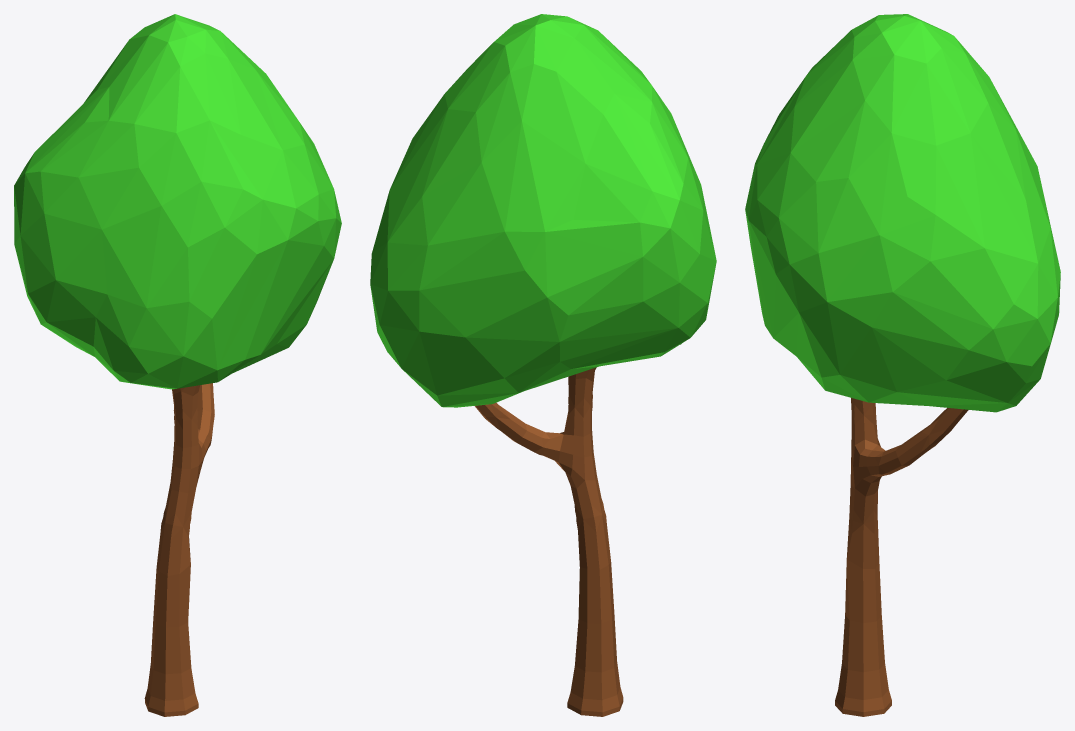
File: Tree.fbx
3 renders of one model, left to right at view 1: azimuth 30°, elevation 25°; view 2: azimuth 150°, elevation 25°; view 3: azimuth 270°, elevation 25°, orthographic. The views are drawn at different scales.
Parts seen in each view (by area): view 1: Icosphere.026, Tree.001; view 2: Icosphere.026, Tree.001; view 3: Icosphere.026, Tree.001.
Part boxes in pixels (box(x1,y1,x2,y2)): Icosphere.026: box(14, 14, 341, 389); Tree.001: box(144, 383, 214, 716); Icosphere.026: box(370, 14, 716, 407); Tree.001: box(475, 367, 623, 716); Icosphere.026: box(745, 14, 1060, 412); Tree.001: box(835, 398, 968, 716).
Bounding box in the file's own units: 215 × 238 × 529.
